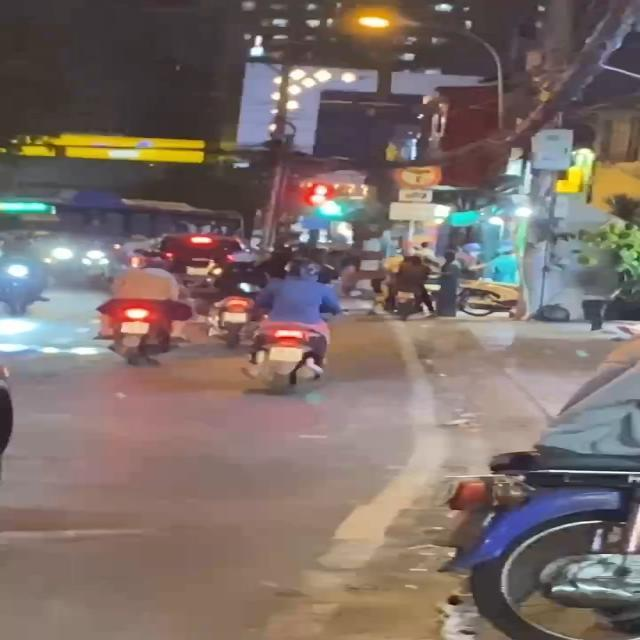137-cam-re-trai-va-re-phai: (393, 161, 442, 189)
